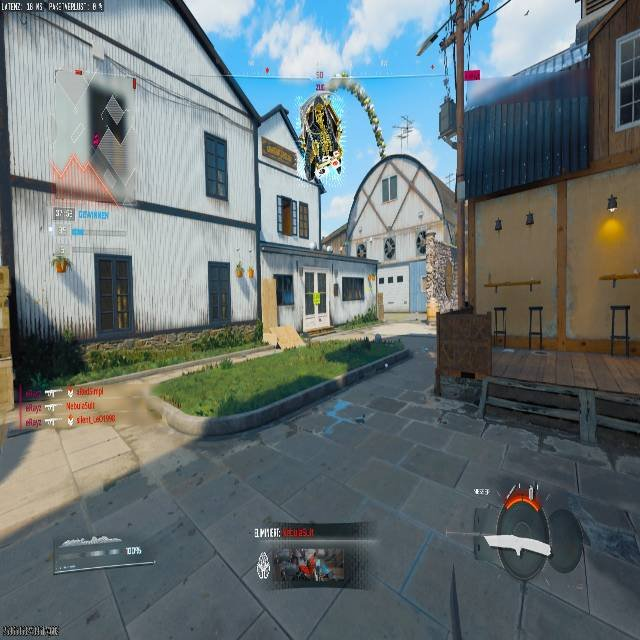player: (383, 236, 395, 259), (356, 243, 366, 257)
